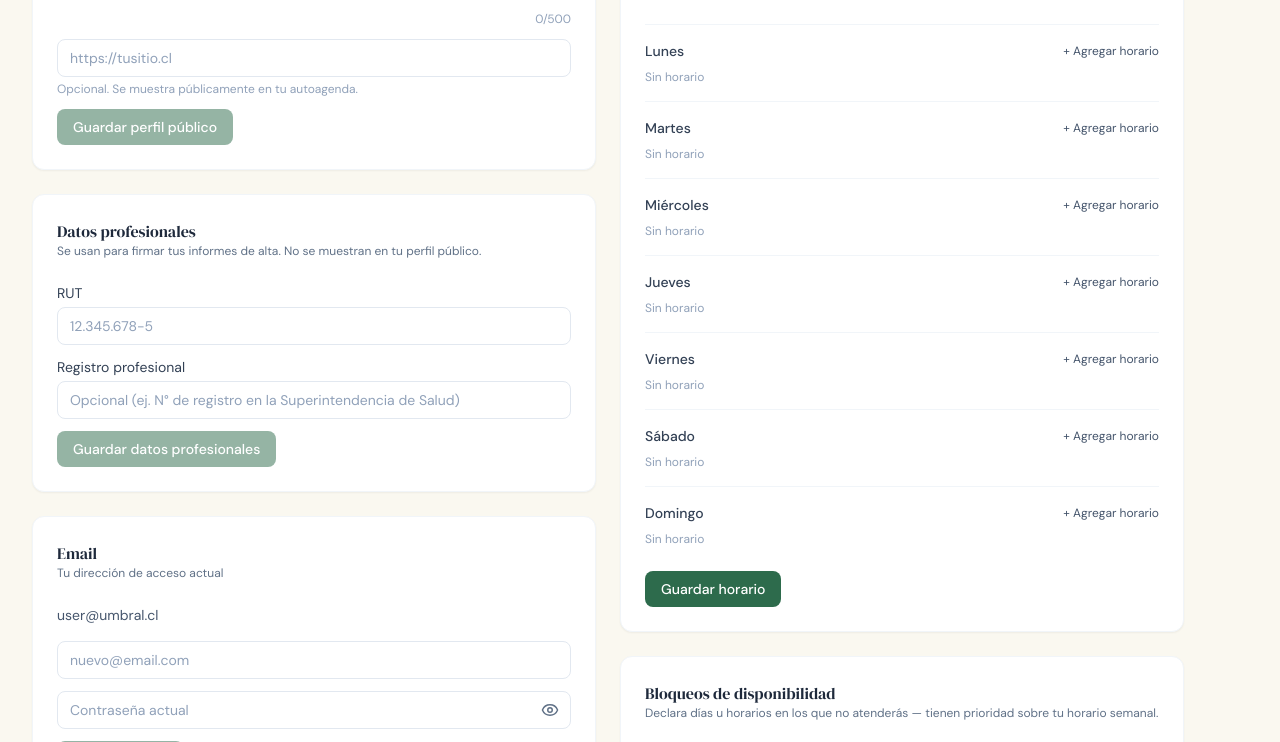
Test: ProfilePage — account-settings Req: Profile Section Scope › datos profesionales (RUT y registro profesional) › muestra el error del backend si el guardado falla
This screenshot has width=1280, height=742.
(page scrolled)
Type "Reg. 1" into the field labelled "Registro profesional" at (314, 400), box [57,381,571,419]
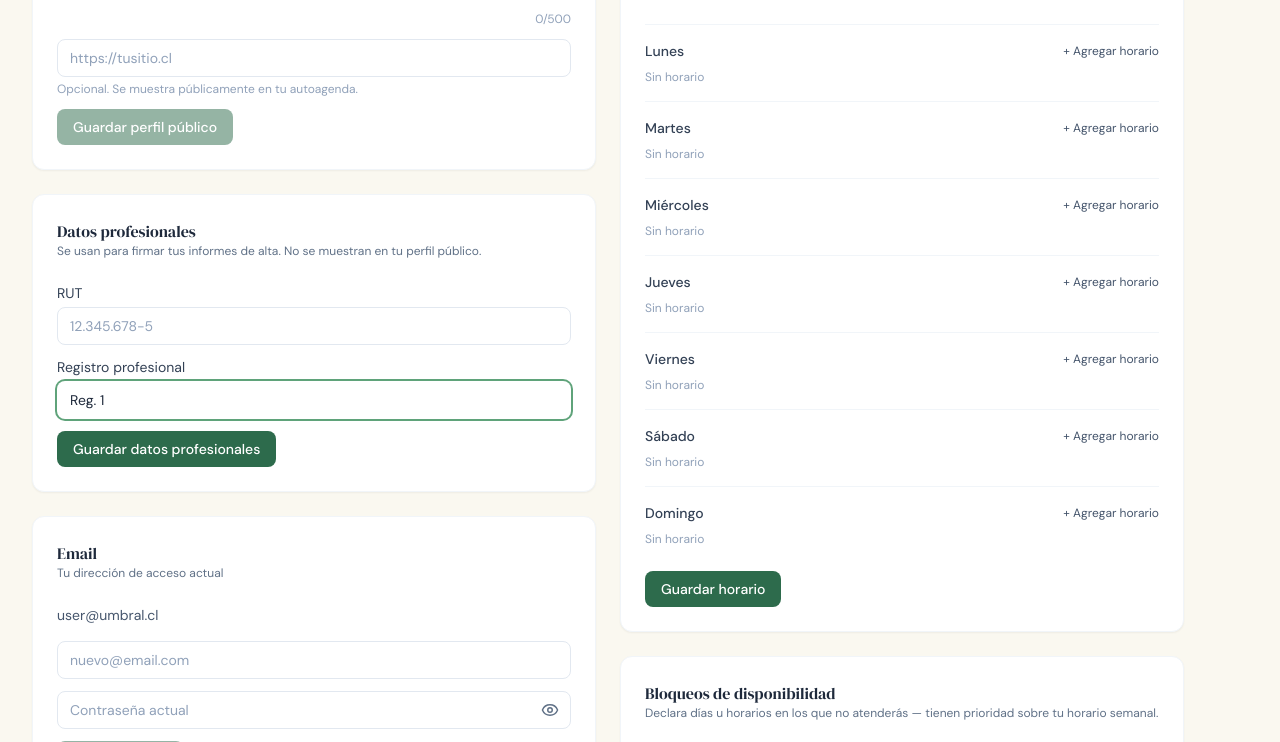
Click the button "Guardar datos profesionales" at (167, 449), box [57,431,276,467]
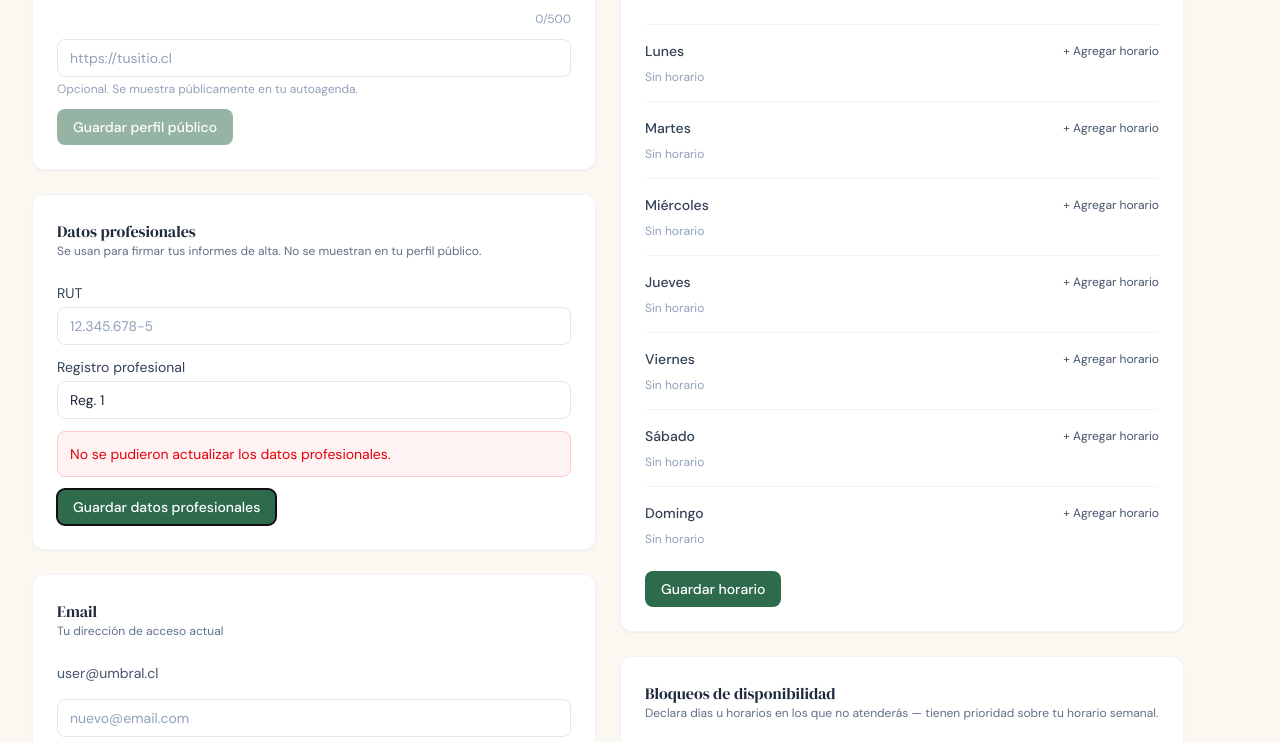
Now the text "No se pudieron actualizar los datos profesionales." is shown, box [70,445,391,463]
